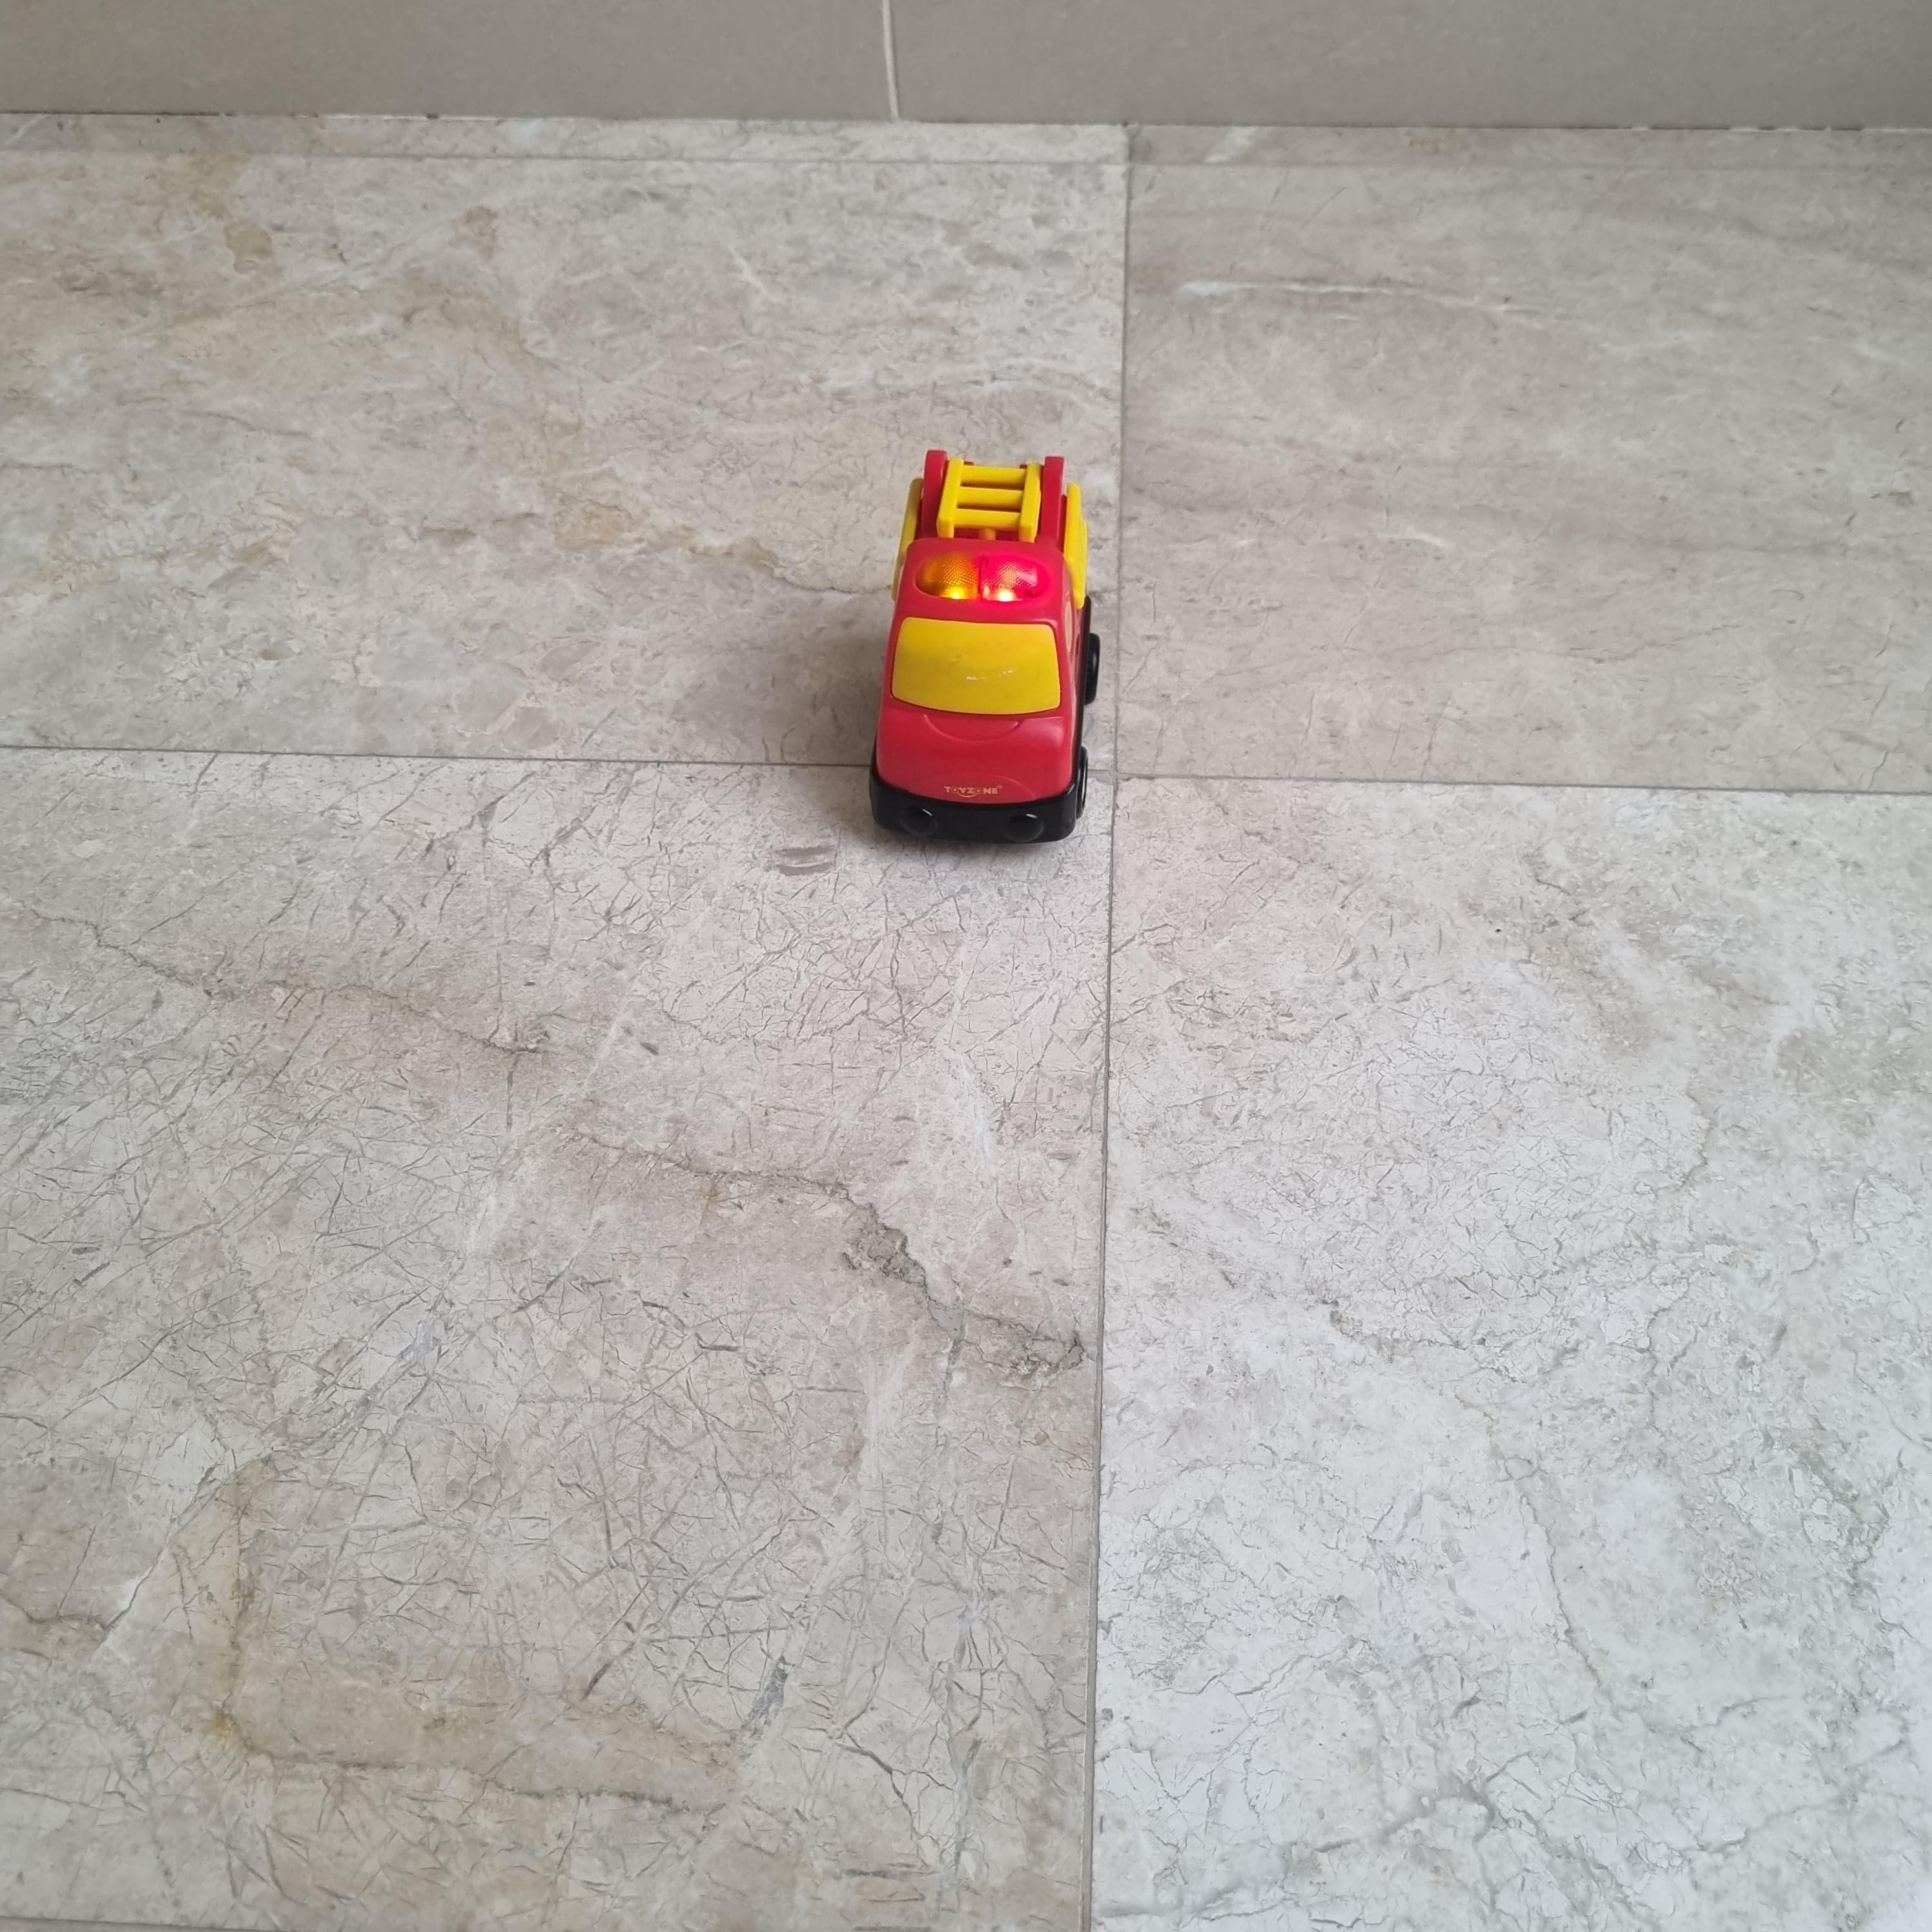firetruck_on: (867, 446, 1099, 842)
